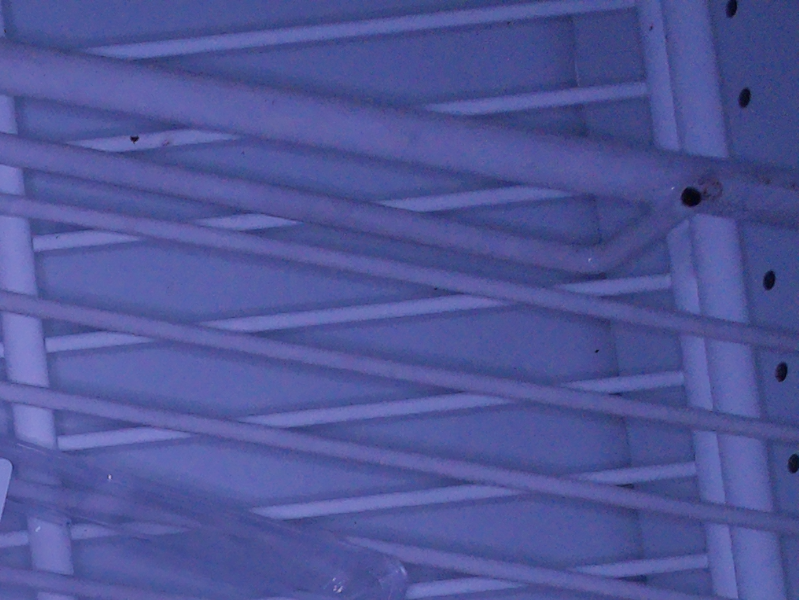plate: (1, 436, 407, 600)
